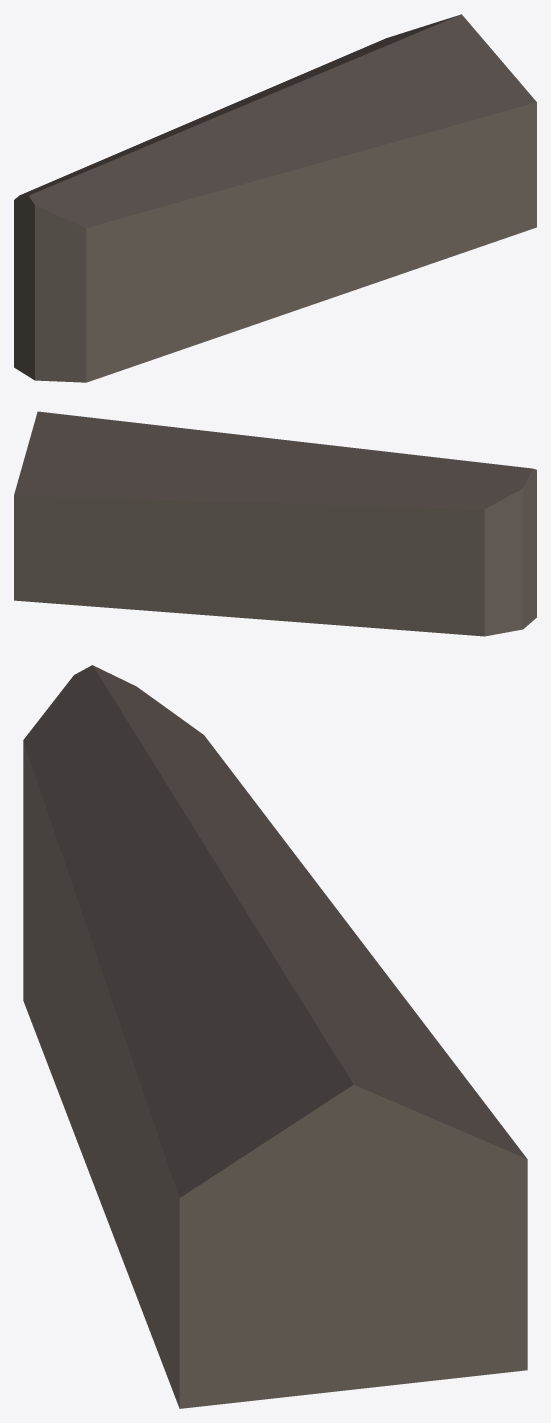
3 views of the same model, one above another, from view 1: azimuth 30°, elevation 25°; view 2: azimuth 150°, elevation 25°; view 3: azimuth 270°, elevation 25° (orthographic). The views are drawn at different scales.
Parts seen in each view (by area): view 1: HP-w1198850576; view 2: HP-w1198850576; view 3: HP-w1198850576.
Part boxes in pixels (x1,y1,x2,y2): HP-w1198850576: (14, 14, 536, 382); HP-w1198850576: (14, 411, 536, 636); HP-w1198850576: (23, 665, 527, 1408).
Bounding box in the file's own units: 26.88 × 8.68 × 13.02.
